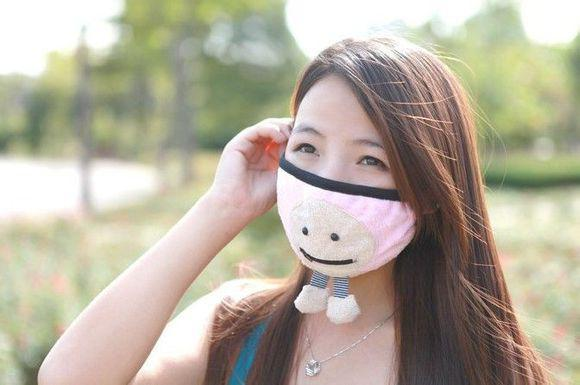OK: (274, 126, 428, 279)
